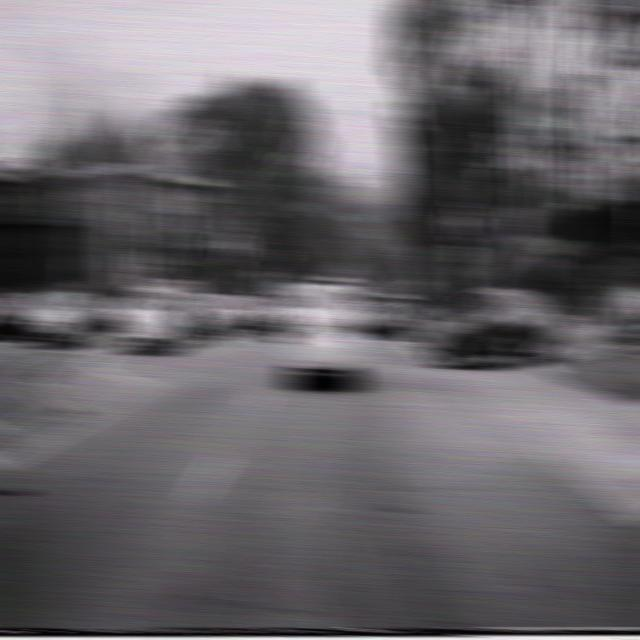stop: (506, 206, 534, 245)
